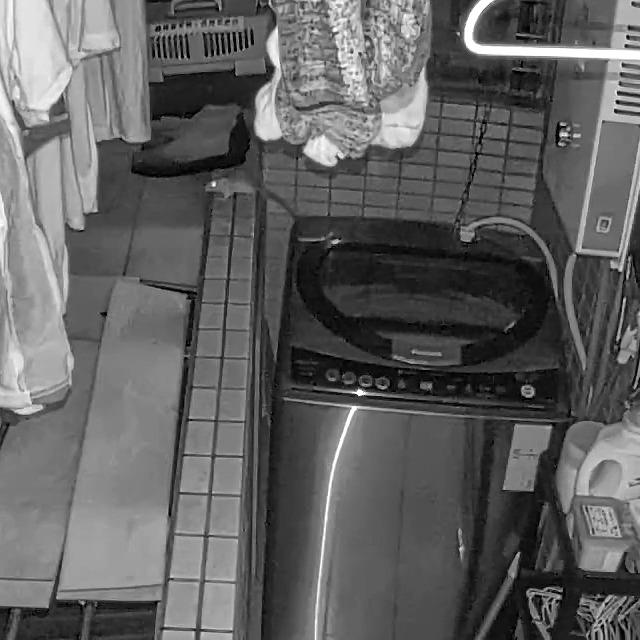rat: (203, 171, 298, 218)
